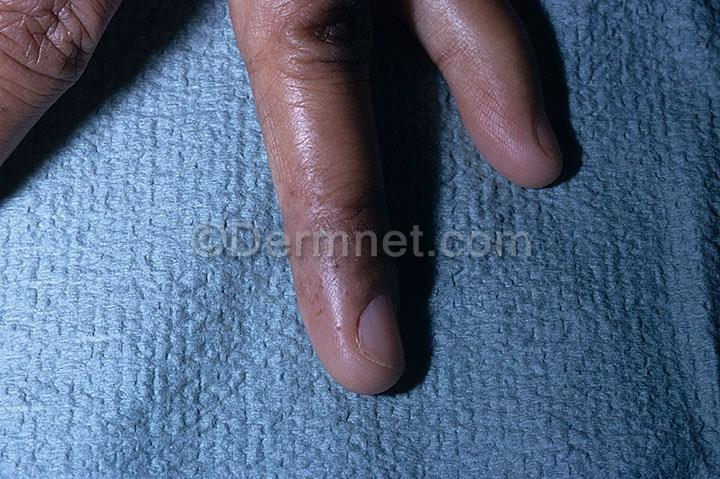Eczema: (299, 261, 353, 324), (288, 177, 339, 222)
